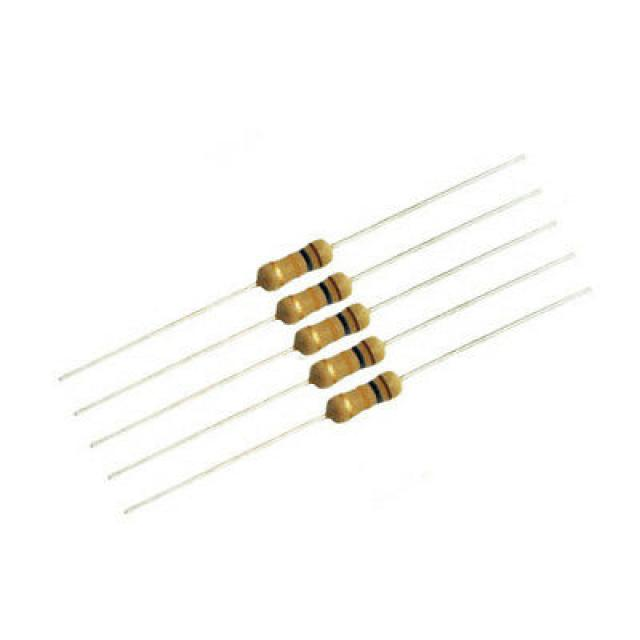Resistor: (255, 263, 384, 326), (275, 269, 356, 326), (255, 236, 335, 293), (293, 301, 372, 356), (308, 336, 388, 390), (324, 371, 403, 425)
